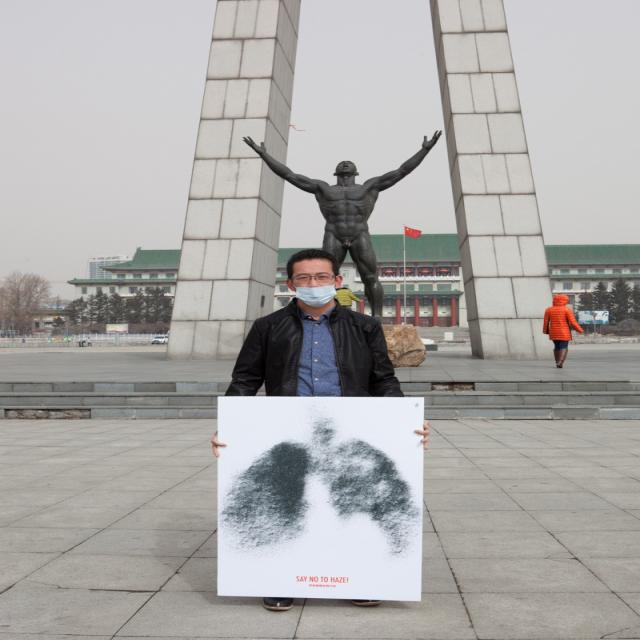mask: (292, 259, 334, 308)
